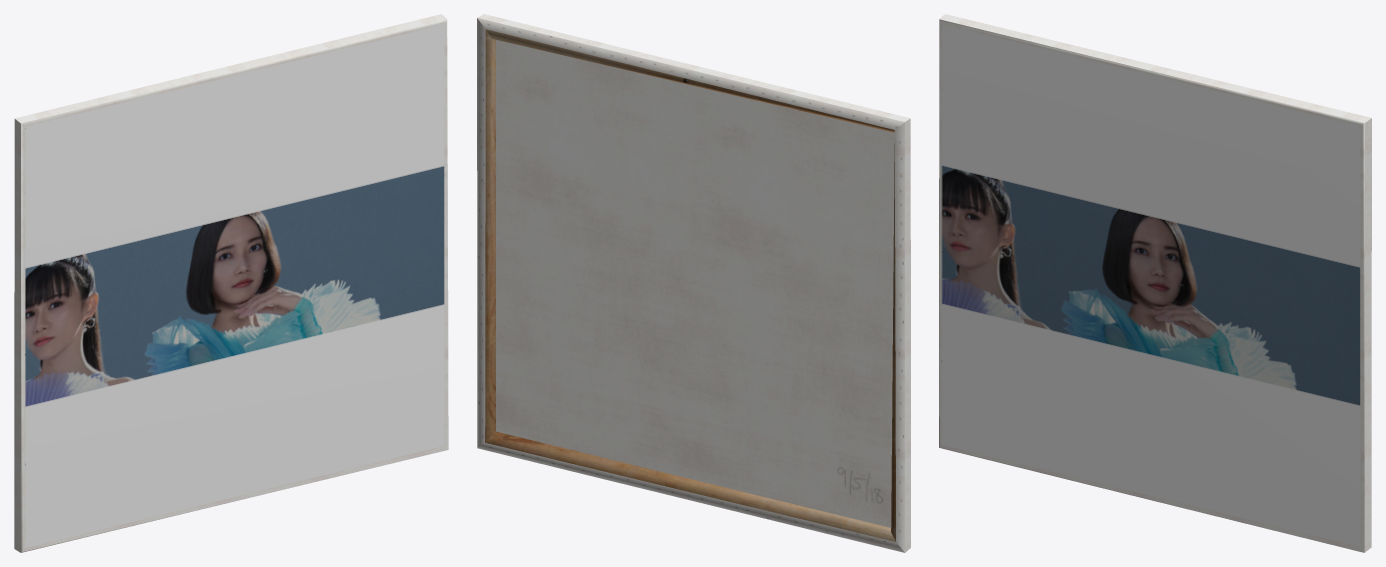
File: input.glb
3 views of the same model, side by side, from view 1: azimuth 30°, elevation 25°; view 2: azimuth 150°, elevation 25°; view 3: azimuth 330°, elevation 25° (orthographic).
Visible parts, largest first — view 1: SM_Canvas_Painting; view 2: SM_Canvas_Painting; view 3: SM_Canvas_Painting.
Boxes of the visible parts, bbox=[...] form: SM_Canvas_Painting: bbox=[14, 14, 448, 552]; SM_Canvas_Painting: bbox=[477, 14, 910, 552]; SM_Canvas_Painting: bbox=[939, 14, 1371, 552].
Size of the model in its own units: 1.52 by 1.46 by 0.0512.
Materials: 1 (1 with a texture image).
